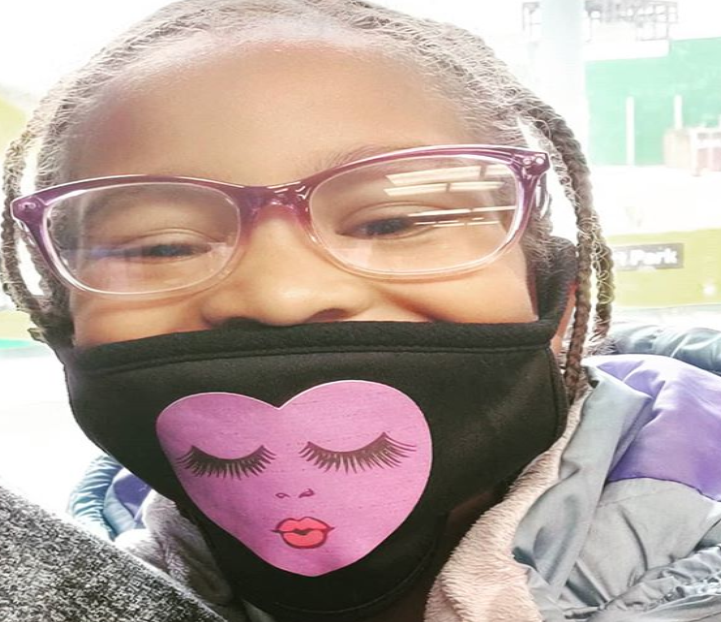mask_weared_incorrect: (1, 2, 607, 620)
